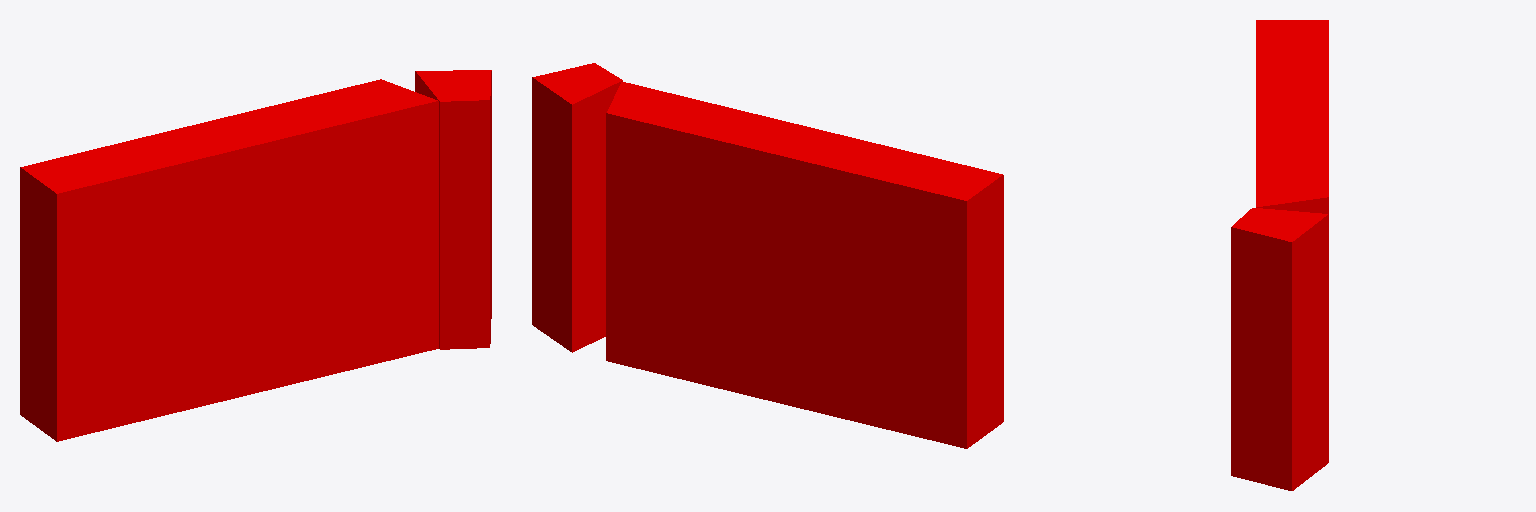
The robot description file, URDF, robot "room73b2-empty-box":
<?xml version="1.0"?>
<robot name="room73b2-empty-box"
       xmlns:xi="http://www.w3.org/2001/XInclude"
       xmlns:gazebo="http://playerstage.sourceforge.net/gazebo/xmlschema/#gz"
       xmlns:model="http://playerstage.sourceforge.net/gazebo/xmlschema/#model"
       xmlns:sensor="http://playerstage.sourceforge.net/gazebo/xmlschema/#sensor"
       xmlns:body="http://playerstage.sourceforge.net/gazebo/xmlschema/#body"
       xmlns:geom="http://playerstage.sourceforge.net/gazebo/xmlschema/#geom"
       xmlns:joint="http://playerstage.sourceforge.net/gazebo/xmlschema/#joint"
       xmlns:interface="http://playerstage.sourceforge.net/gazebo/xmlschema/#interface"
       xmlns:rendering="http://playerstage.sourceforge.net/gazebo/xmlschema/#rendering"
       xmlns:renderable="http://playerstage.sourceforge.net/gazebo/xmlschema/#renderable"
       xmlns:controller="http://playerstage.sourceforge.net/gazebo/xmlschema/#controller"
       xmlns:physics="http://playerstage.sourceforge.net/gazebo/xmlschema/#physics">
  <gazebo>
    <static>false</static>
  </gazebo>
  <link name="nil_link">
    <visual>
      <origin xyz="0 0 0" rpy="0 -0 0"/>
      <geometry>
        <mesh filename="model://room73b2-empty-box/meshes/nil_link_mesh.dae" scale="1 1 1" />
      </geometry>
    </visual>
    <collision>
      <origin xyz="0 0 0" rpy="0 -0 0"/>
      <geometry>
        <mesh filename="model://room73b2-empty-box/meshes/nil_link_mesh.dae" scale="1 1 1" />
      </geometry>
    </collision>
    <inertial>
      <mass value="0.001" />
      <origin xyz="0 0 0" rpy="0 -0 0"/>
      <inertia ixx="1e-09" ixy="0" ixz="0" iyy="1e-09" iyz="0" izz="1e-09"/>
    </inertial>
  </link>
  <gazebo reference="nil_link">
    <mu1>0.9</mu1>
    <mu2>0.9</mu2>
  </gazebo>
</robot>

--- Render facts (derived) ---
The picture shows the robot from 3 angles, left to right: view 1: azimuth 30°, elevation 25°; view 2: azimuth 150°, elevation 25°; view 3: azimuth 270°, elevation 25°; orthographic projection.
Robot: room73b2-empty-box — 1 links, 0 joints (none); root link nil_link; default pose: every joint at zero.
Visible links, largest first — view 1: nil_link; view 2: nil_link; view 3: nil_link.
Boxes of the visible links, bbox=[...] form: nil_link: bbox=[20, 70, 491, 441]; nil_link: bbox=[532, 63, 1003, 448]; nil_link: bbox=[1231, 20, 1328, 490].
Bounding box of the posed robot: 0.172 × 0.032 × 0.09 m (x, y, z).
1 mesh visuals loaded from 1 distinct referenced files (1 Collada DAE).
